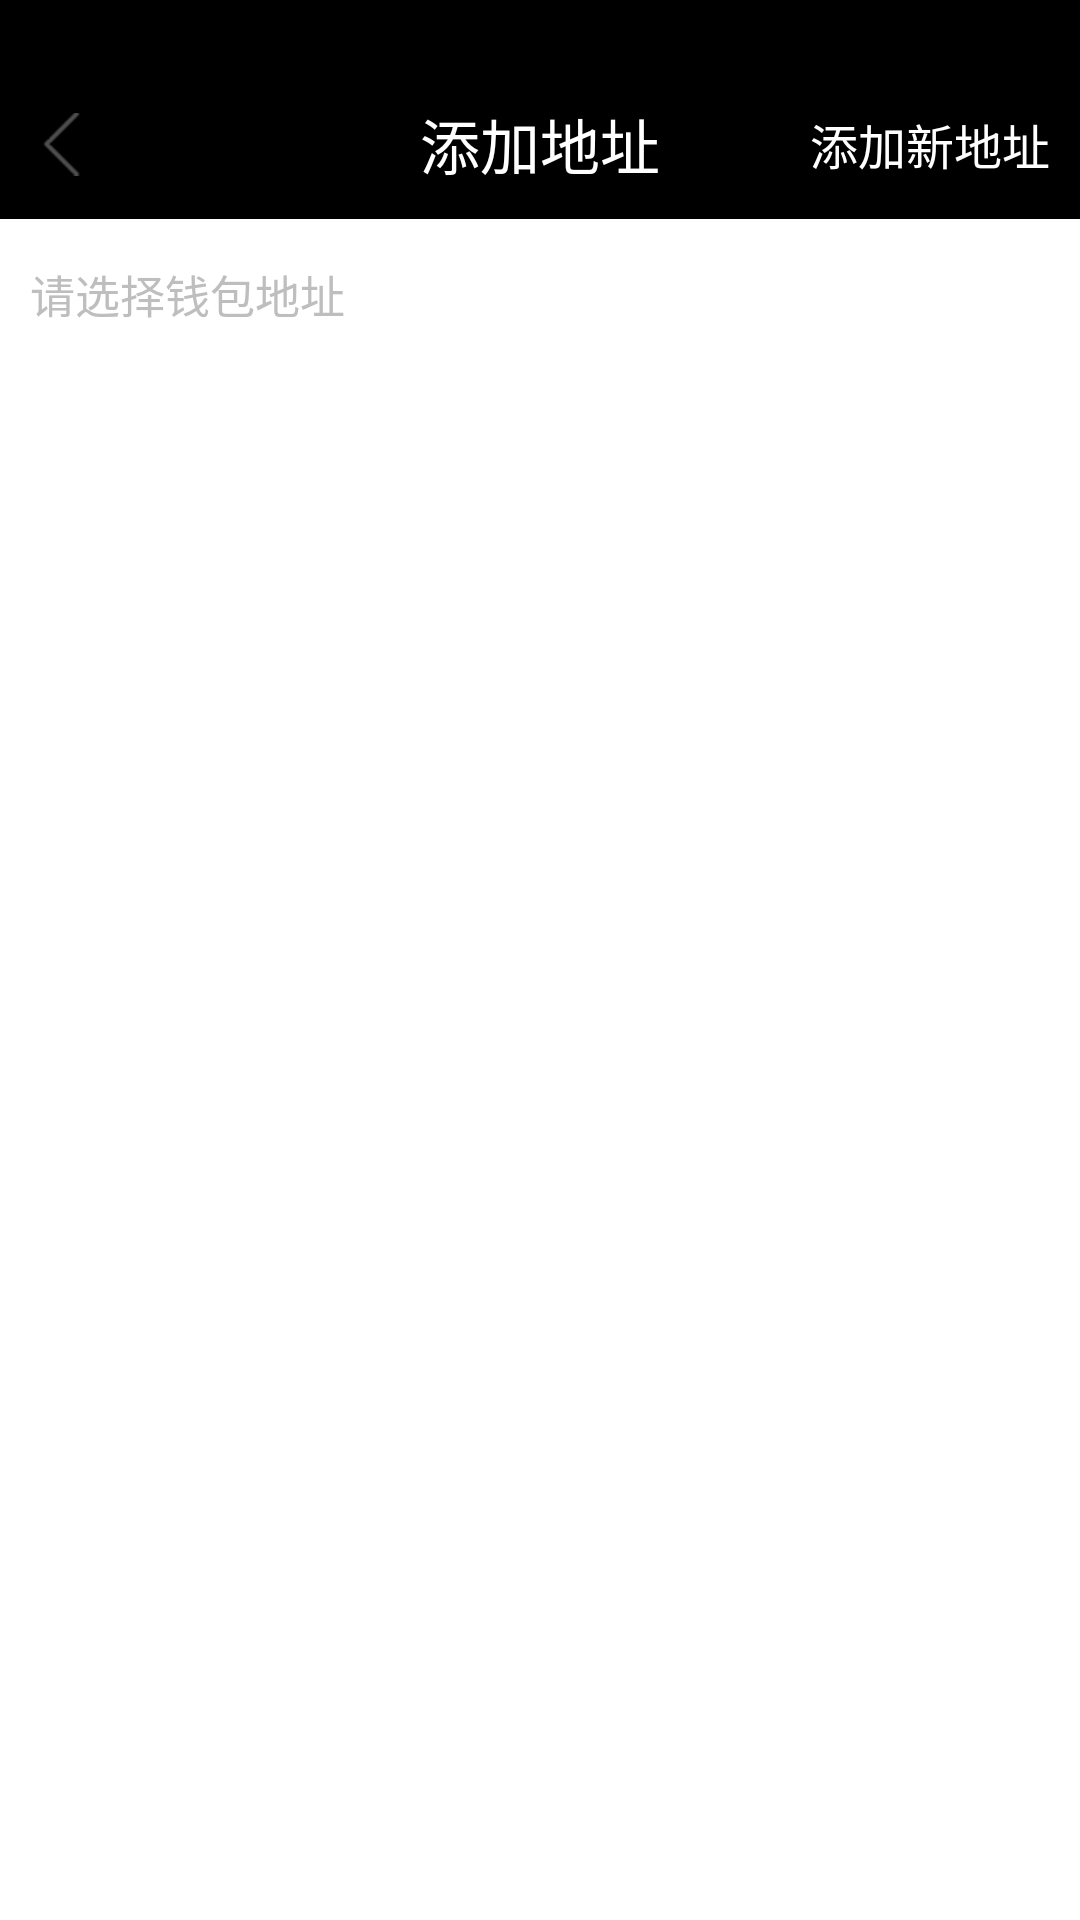

Named icons in this screenshot (1080 x 1920) and their centers, [x,y]:
back: [61,144]
